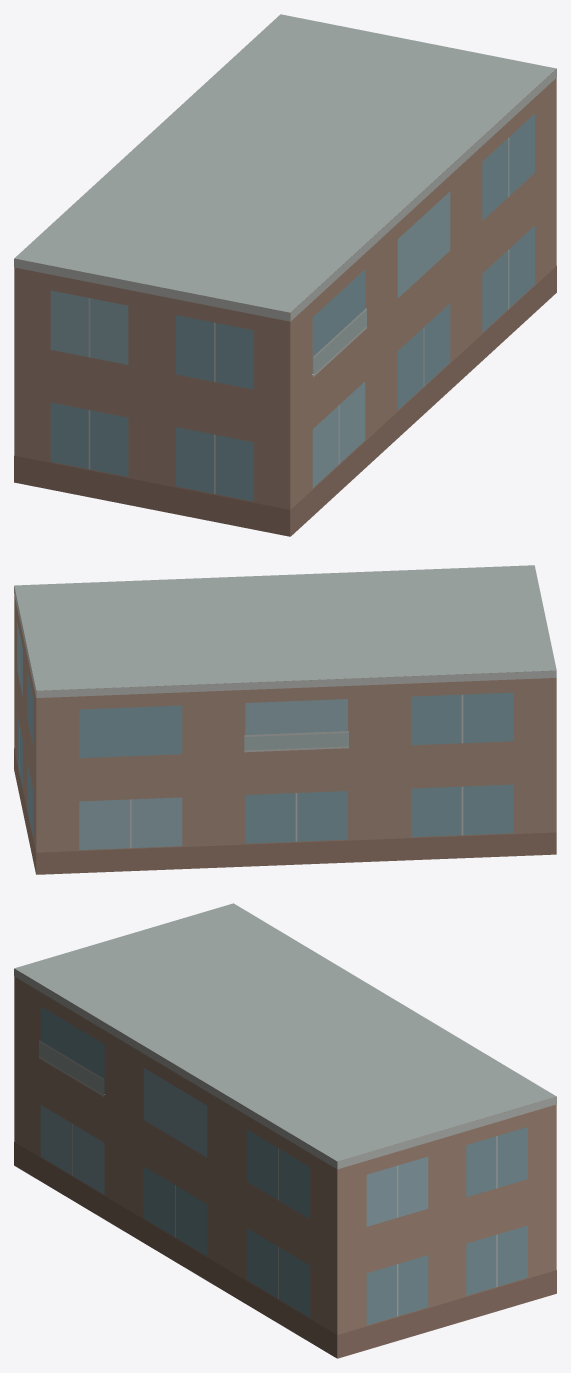
File: survey-upis-33006425.glb
The picture shows the model from 3 angles, top to bottom: view 1: azimuth 30°, elevation 25°; view 2: azimuth 150°, elevation 25°; view 3: azimuth 270°, elevation 25°; orthographic projection. The views are drawn at different scales.
Visible parts, largest first — view 1: survey-upis-33006425.tmp; view 2: survey-upis-33006425.tmp; view 3: survey-upis-33006425.tmp.
Part boxes in pixels (x1,y1,x2,y2): survey-upis-33006425.tmp: (14, 14, 556, 536); survey-upis-33006425.tmp: (14, 565, 556, 874); survey-upis-33006425.tmp: (14, 903, 556, 1358).
Size of the model in its own units: 17.16 by 6.1 by 15.23.
